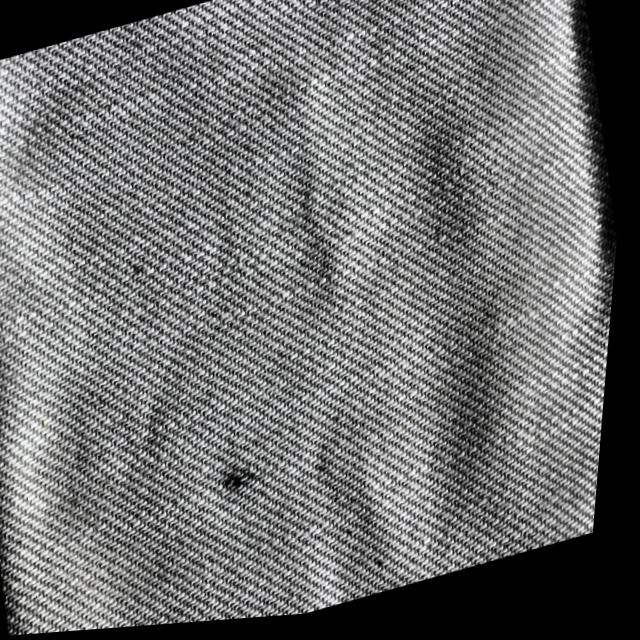Hole: (216, 453, 282, 523)
